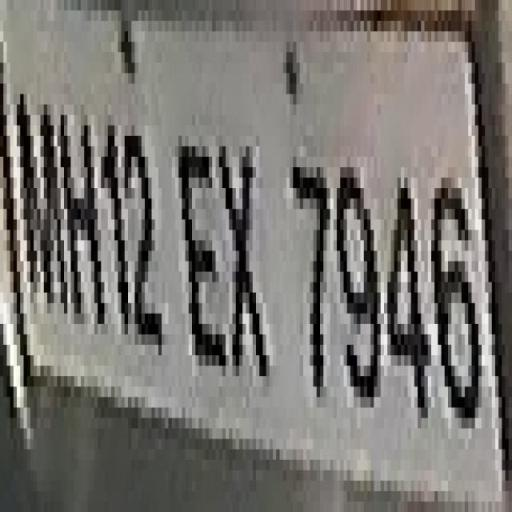number plate: (17, 10, 512, 492)
